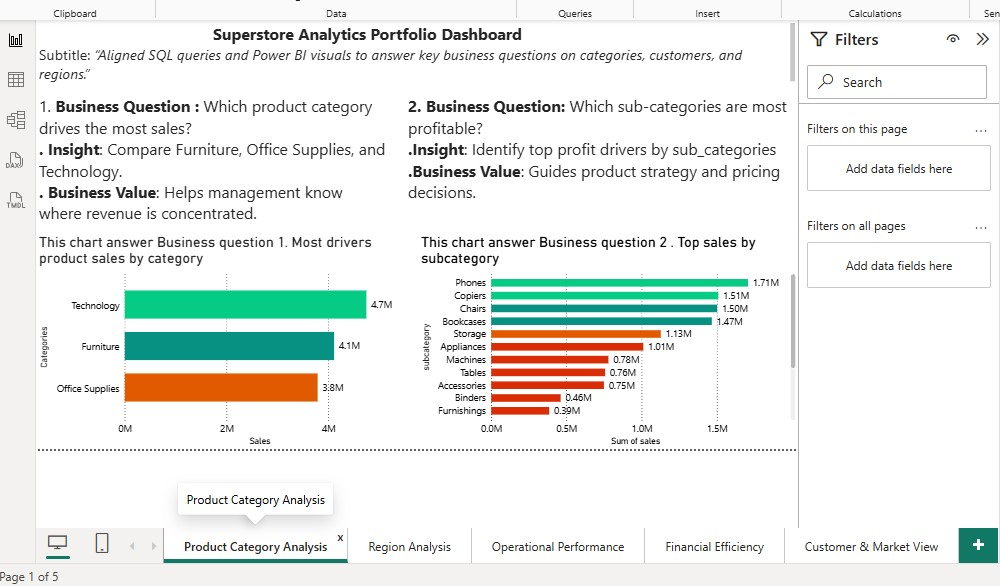

Layout of this report page (visuals, bound fields, positions):
{"tool":"powerbi","page":{"name":"Product Category Analysis","canvas":[1280,720],"ordinal":0},"visuals":[{"type":"textbox","box":[0,0,1280,109.2],"z":0},{"type":"textbox","box":[0,121.1,597.1,238.8],"z":1000},{"type":"barChart","title":"This chart answer  Business question 1. Most drivers product sales by category","fields":{"Category":["Products.category"],"Y":["Sum(OrderDetails.sales)"]},"box":[0,359.9,620.7,359.9],"z":2000},{"type":"textbox","box":[620.7,121.1,659.3,238.8],"z":3000},{"type":"clusteredBarChart","title":"This chart answer Business question 2 . Top sales by subcategory","fields":{"Category":["Products.subcategory"],"Y":["Sum(OrderDetails.sales)"]},"box":[640.8,359.9,639.2,359.9],"z":4000}]}

Visuals, with their boxes on the page's 1280x720 design canvas (x1, y1, x2, y2). These are canvas units, not pixel positions in the 1000x586 screenshot, which may show the page scaled, cropped or inside an application window:
textbox: 0, 0, 1280, 109
textbox: 0, 121, 597, 360
"This chart answer  Business question 1. Most drivers product sales by category" barChart: 0, 360, 621, 720
textbox: 621, 121, 1280, 360
"This chart answer Business question 2 . Top sales by subcategory" clusteredBarChart: 641, 360, 1280, 720
